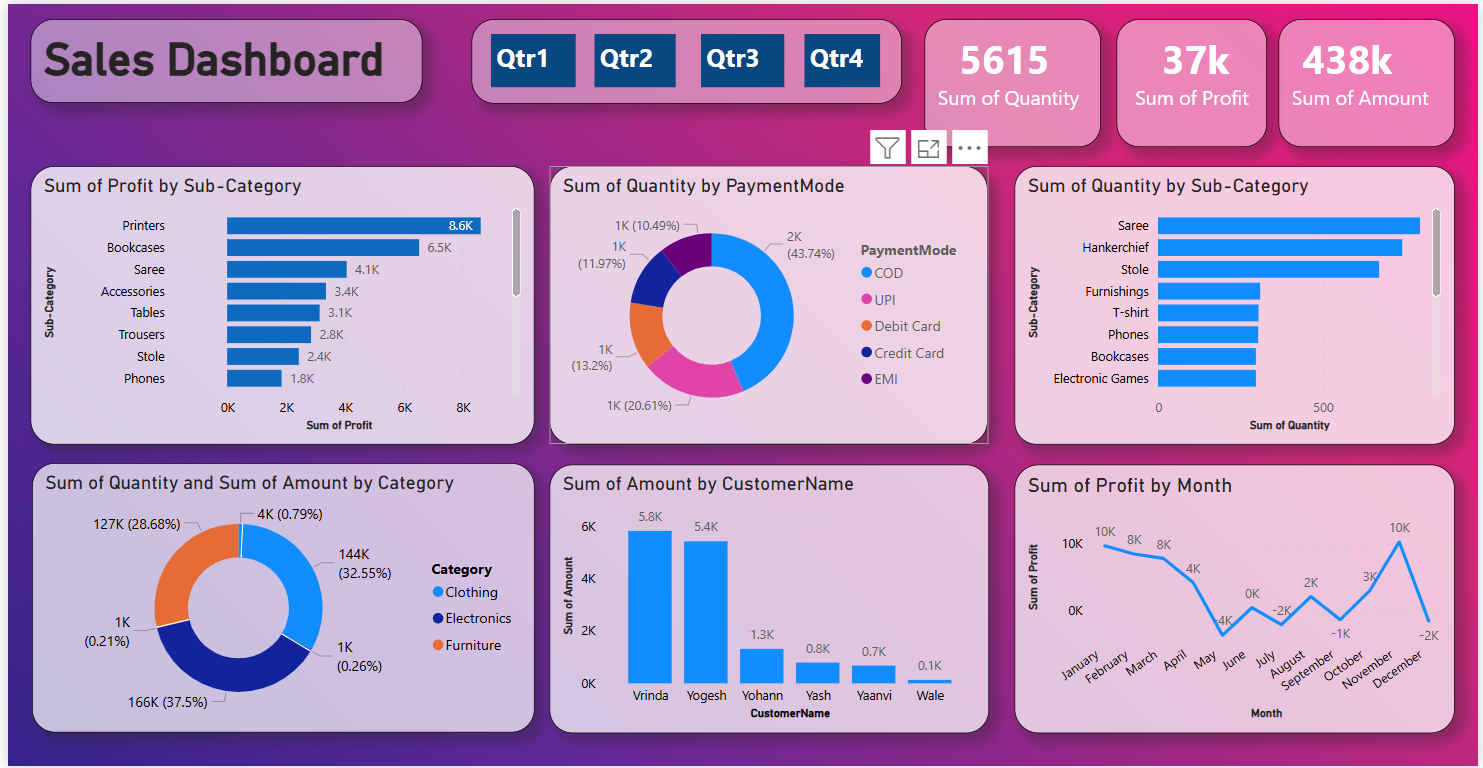

The page's visual inventory and layout, read from the dashboard file:
{"tool":"powerbi","page":{"name":"Sales Dashboard","canvas":[1400,726],"ordinal":0},"visuals":[{"type":"textbox","box":[22.1,14.2,373.3,80.3],"z":0},{"type":"textbox","box":[441.5,14.4,409.9,80.5],"z":1000},{"type":"textbox","box":[460.2,28.8,80.5,50.3],"z":2000},{"type":"textbox","box":[558,28.8,77.7,50.3],"z":3000},{"type":"textbox","box":[660.1,28.8,79.1,50.3],"z":4000},{"type":"textbox","box":[757.9,28.8,71.9,50.3],"z":5000},{"type":"textbox","box":[873,14.5,168.2,121.8],"z":6000},{"type":"textbox","box":[1055.7,14.5,143.6,121.8],"z":7000},{"type":"textbox","box":[1209.4,14.5,168.2,121.8],"z":8000},{"type":"clusteredBarChart","fields":{"Category":["Order Details.Sub-Category"],"Y":["Order Details.Profit"]},"box":[21.8,153.7,480,265.4],"z":9000},{"type":"donutChart","fields":{"Y":["Order Details.Quantity"],"Category":["Order Details.PaymentMode"]},"box":[516.2,153.7,417.6,265.4],"z":10000},{"type":"clusteredBarChart","fields":{"Y":["Order Details.Quantity"],"Category":["Order Details.Sub-Category"]},"box":[958.5,153.7,419.1,265.4],"z":11000},{"type":"donutChart","fields":{"Category":["Order Details.Category"],"Y":["Order Details.Quantity","Order Details.Amount"]},"box":[22.4,437.6,478.9,256.7],"z":12000},{"type":"columnChart","fields":{"Category":["Orders.CustomerName"],"Y":["Order Details.Amount"]},"box":[515.7,438.6,418.6,255.7],"z":13000},{"type":"lineChart","fields":{"Y":["Order Details.Profit"],"Category":["Orders.Order Date.Variation.Date Hierarchy.Month"]},"box":[959,439,419,256],"z":14000}]}

Visuals, with their boxes in screenshot pixels (x1, y1, x2, y2), scaled from the page's 1400x726 canvas onto the 1483x768 screenshot:
textbox: <box>23,15,419,100</box>
textbox: <box>468,15,902,100</box>
textbox: <box>487,30,573,84</box>
textbox: <box>591,30,673,84</box>
textbox: <box>699,30,783,84</box>
textbox: <box>803,30,879,84</box>
textbox: <box>925,15,1103,144</box>
textbox: <box>1118,15,1270,144</box>
textbox: <box>1281,15,1459,144</box>
clusteredBarChart - Order Details.Sub-Category x Order Details.Profit: <box>23,163,532,443</box>
donutChart - Order Details.Quantity x Order Details.PaymentMode: <box>547,163,989,443</box>
clusteredBarChart - Order Details.Quantity x Order Details.Sub-Category: <box>1015,163,1459,443</box>
donutChart - Order Details.Category x Order Details.Quantity: <box>24,463,531,734</box>
columnChart - Orders.CustomerName x Order Details.Amount: <box>546,464,990,734</box>
lineChart - Order Details.Profit x Orders.Order Date.Variation.Date Hierarchy.Month: <box>1016,464,1460,735</box>
